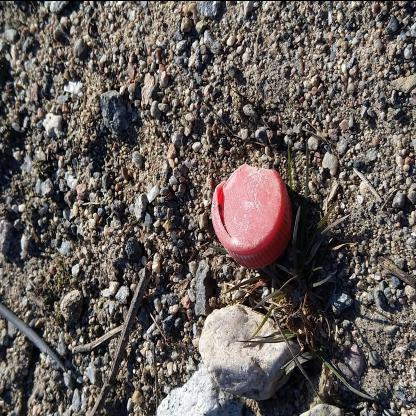plastik: (211, 162, 293, 268)
